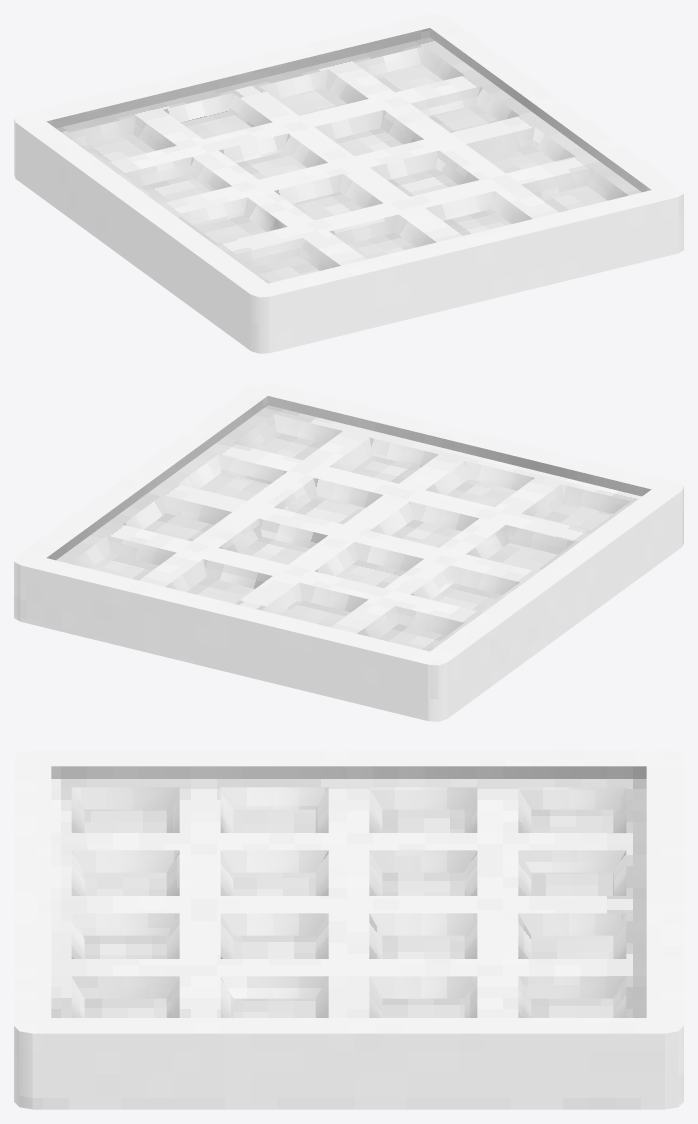
Rendered from Waffle.glb.
The picture shows the model from 3 angles, top to bottom: view 1: azimuth 30°, elevation 25°; view 2: azimuth 150°, elevation 25°; view 3: azimuth 270°, elevation 25°; orthographic projection. The views are drawn at different scales.
Visible parts, largest first — view 1: Waffle; view 2: Waffle; view 3: Waffle.
Part boxes in pixels (left/top/right/bottom): Waffle: left=14, top=14, right=683, bottom=353; Waffle: left=14, top=382, right=683, bottom=721; Waffle: left=14, top=750, right=683, bottom=1109.
Bounding box in the file's own units: 0.1808 × 0.0226 × 0.1808.
1 material, 1 textured.
